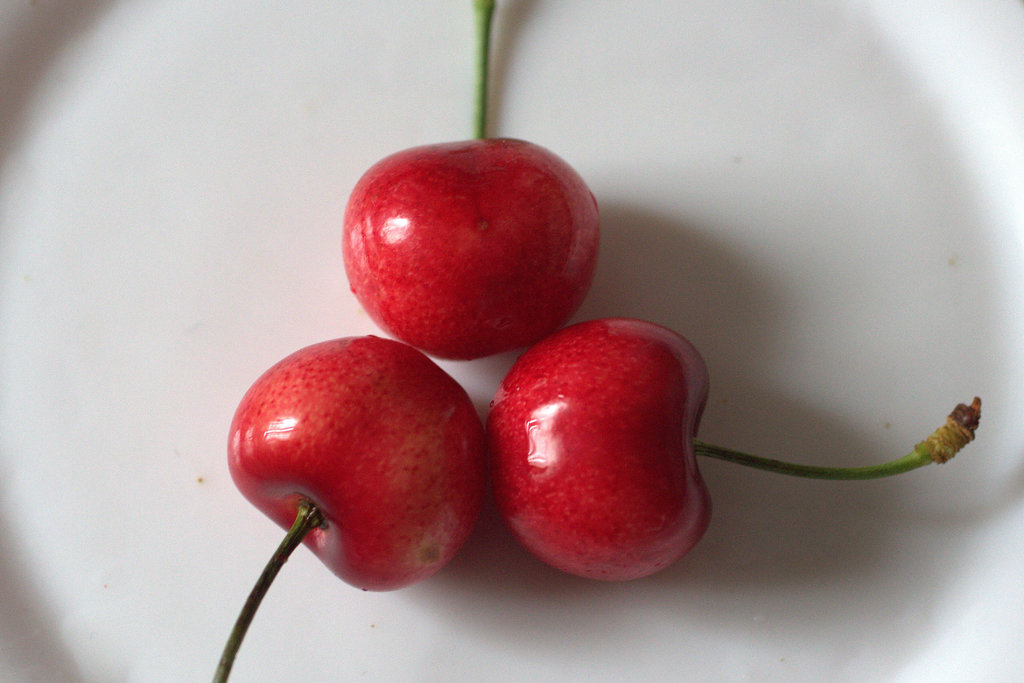Apple: (495, 320, 726, 590)
